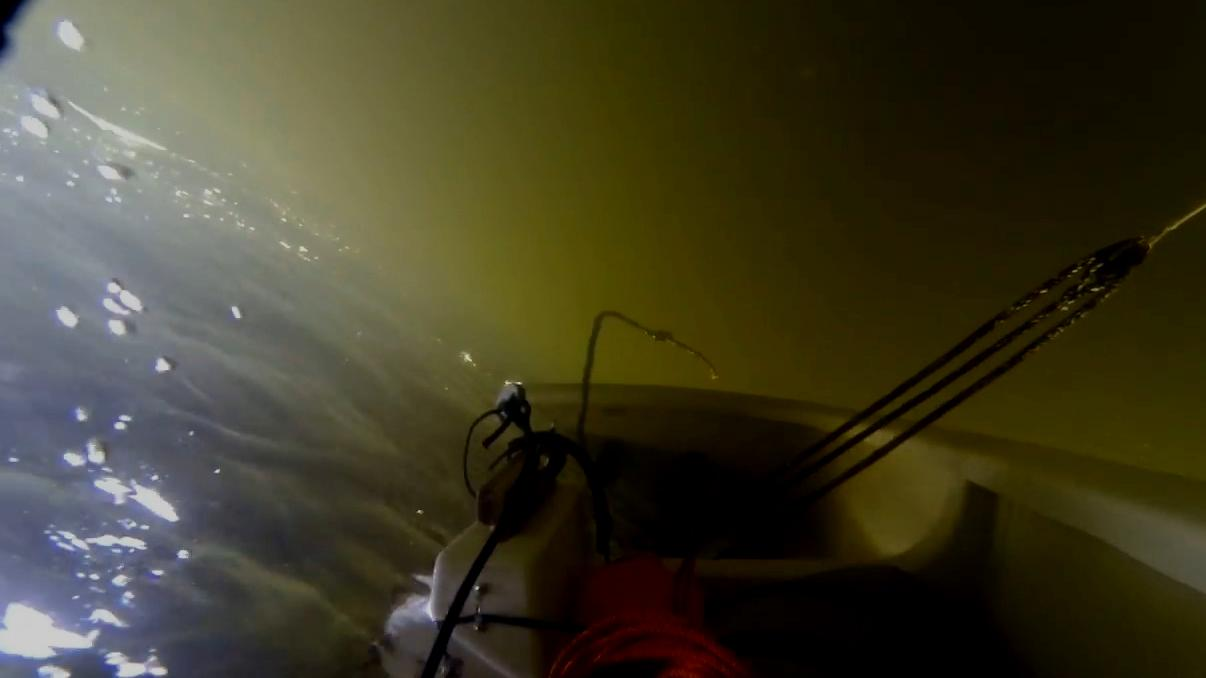boat: (378, 240, 1206, 678)
underwater: (0, 0, 1206, 678)
